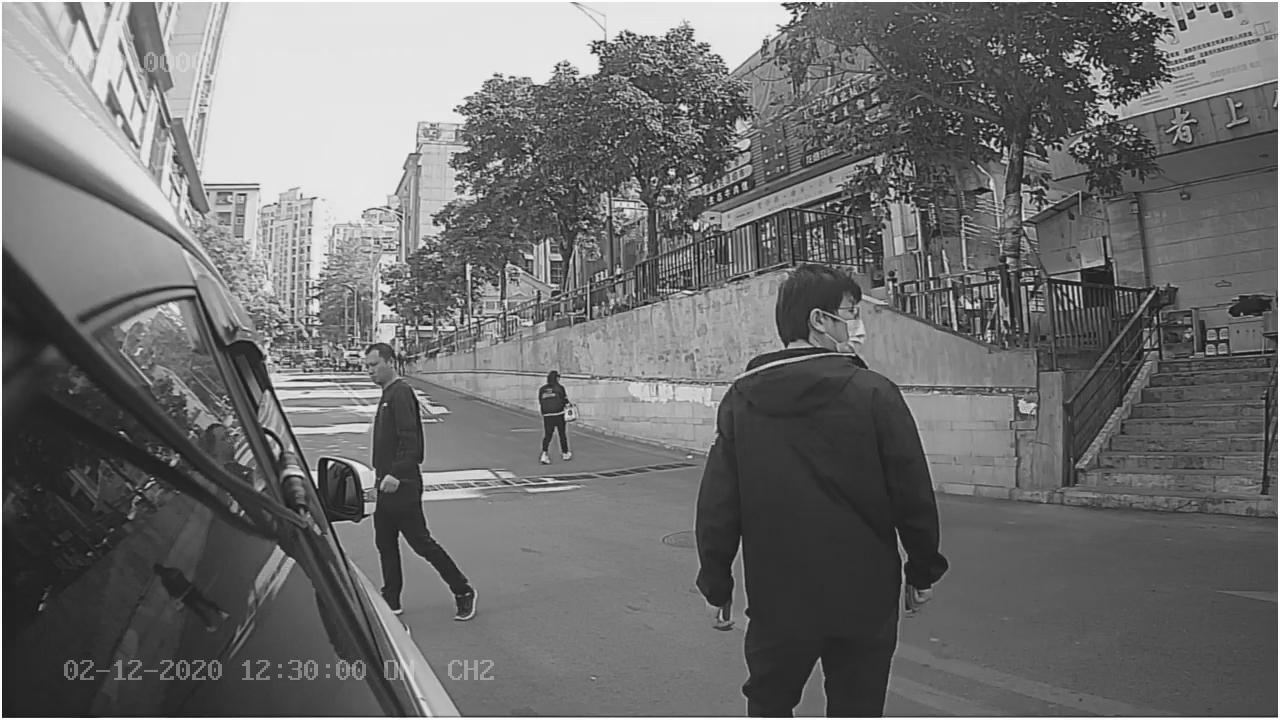person: (679, 254, 949, 633), (354, 341, 436, 462)
